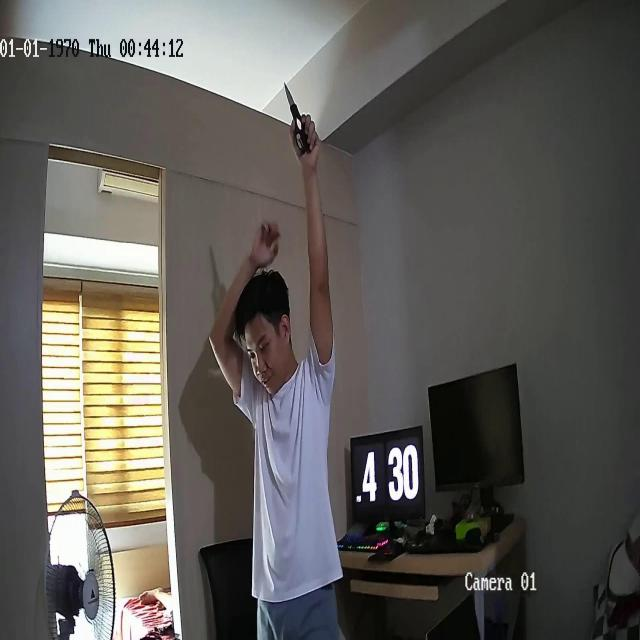scissor: (284, 82, 312, 155)
